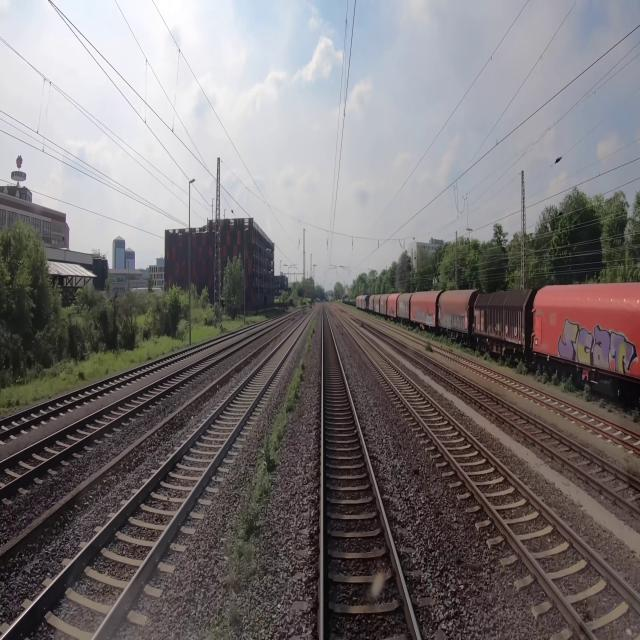Plant: (202, 308, 320, 635), (440, 345, 463, 356), (425, 340, 434, 354), (358, 323, 366, 329)
